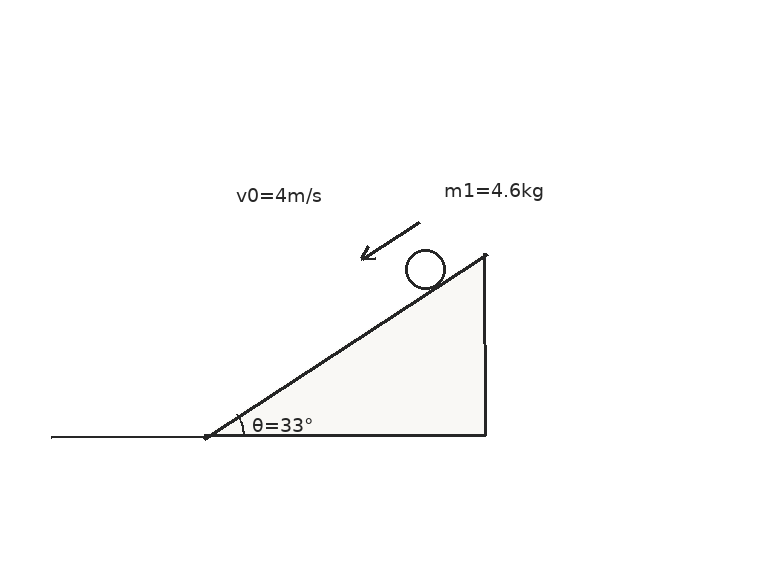ball: (403, 247, 447, 291)
ramp: (202, 252, 487, 438)
